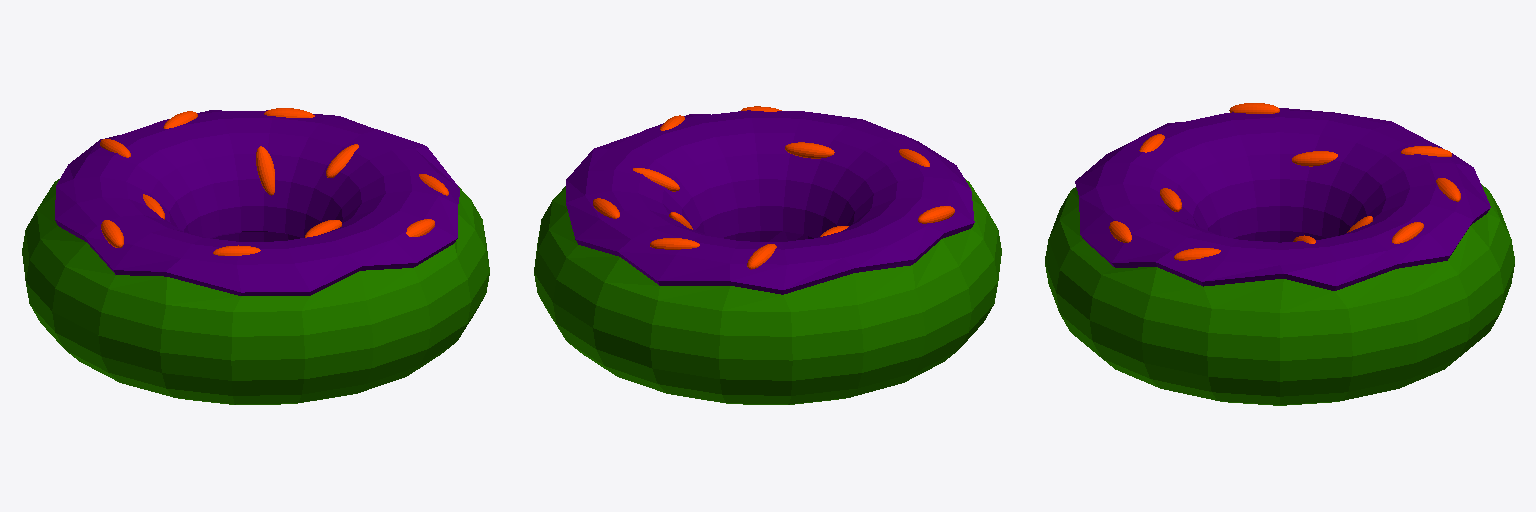
The model's file is DonutForSubstance.obj.
The picture shows the model from 3 angles: view 1: azimuth 30°, elevation 25°; view 2: azimuth 150°, elevation 25°; view 3: azimuth 270°, elevation 25°; orthographic projection.
Visible parts, largest first — view 1: polySurface10; view 2: polySurface10; view 3: polySurface10.
Boxes of the visible parts, x1=… form: polySurface10: x1=22, y1=108, x2=489, y2=404; polySurface10: x1=534, y1=106, x2=1001, y2=404; polySurface10: x1=1045, y1=103, x2=1514, y2=405.
Bounding box in the file's own units: 6.97 × 2.51 × 6.97.